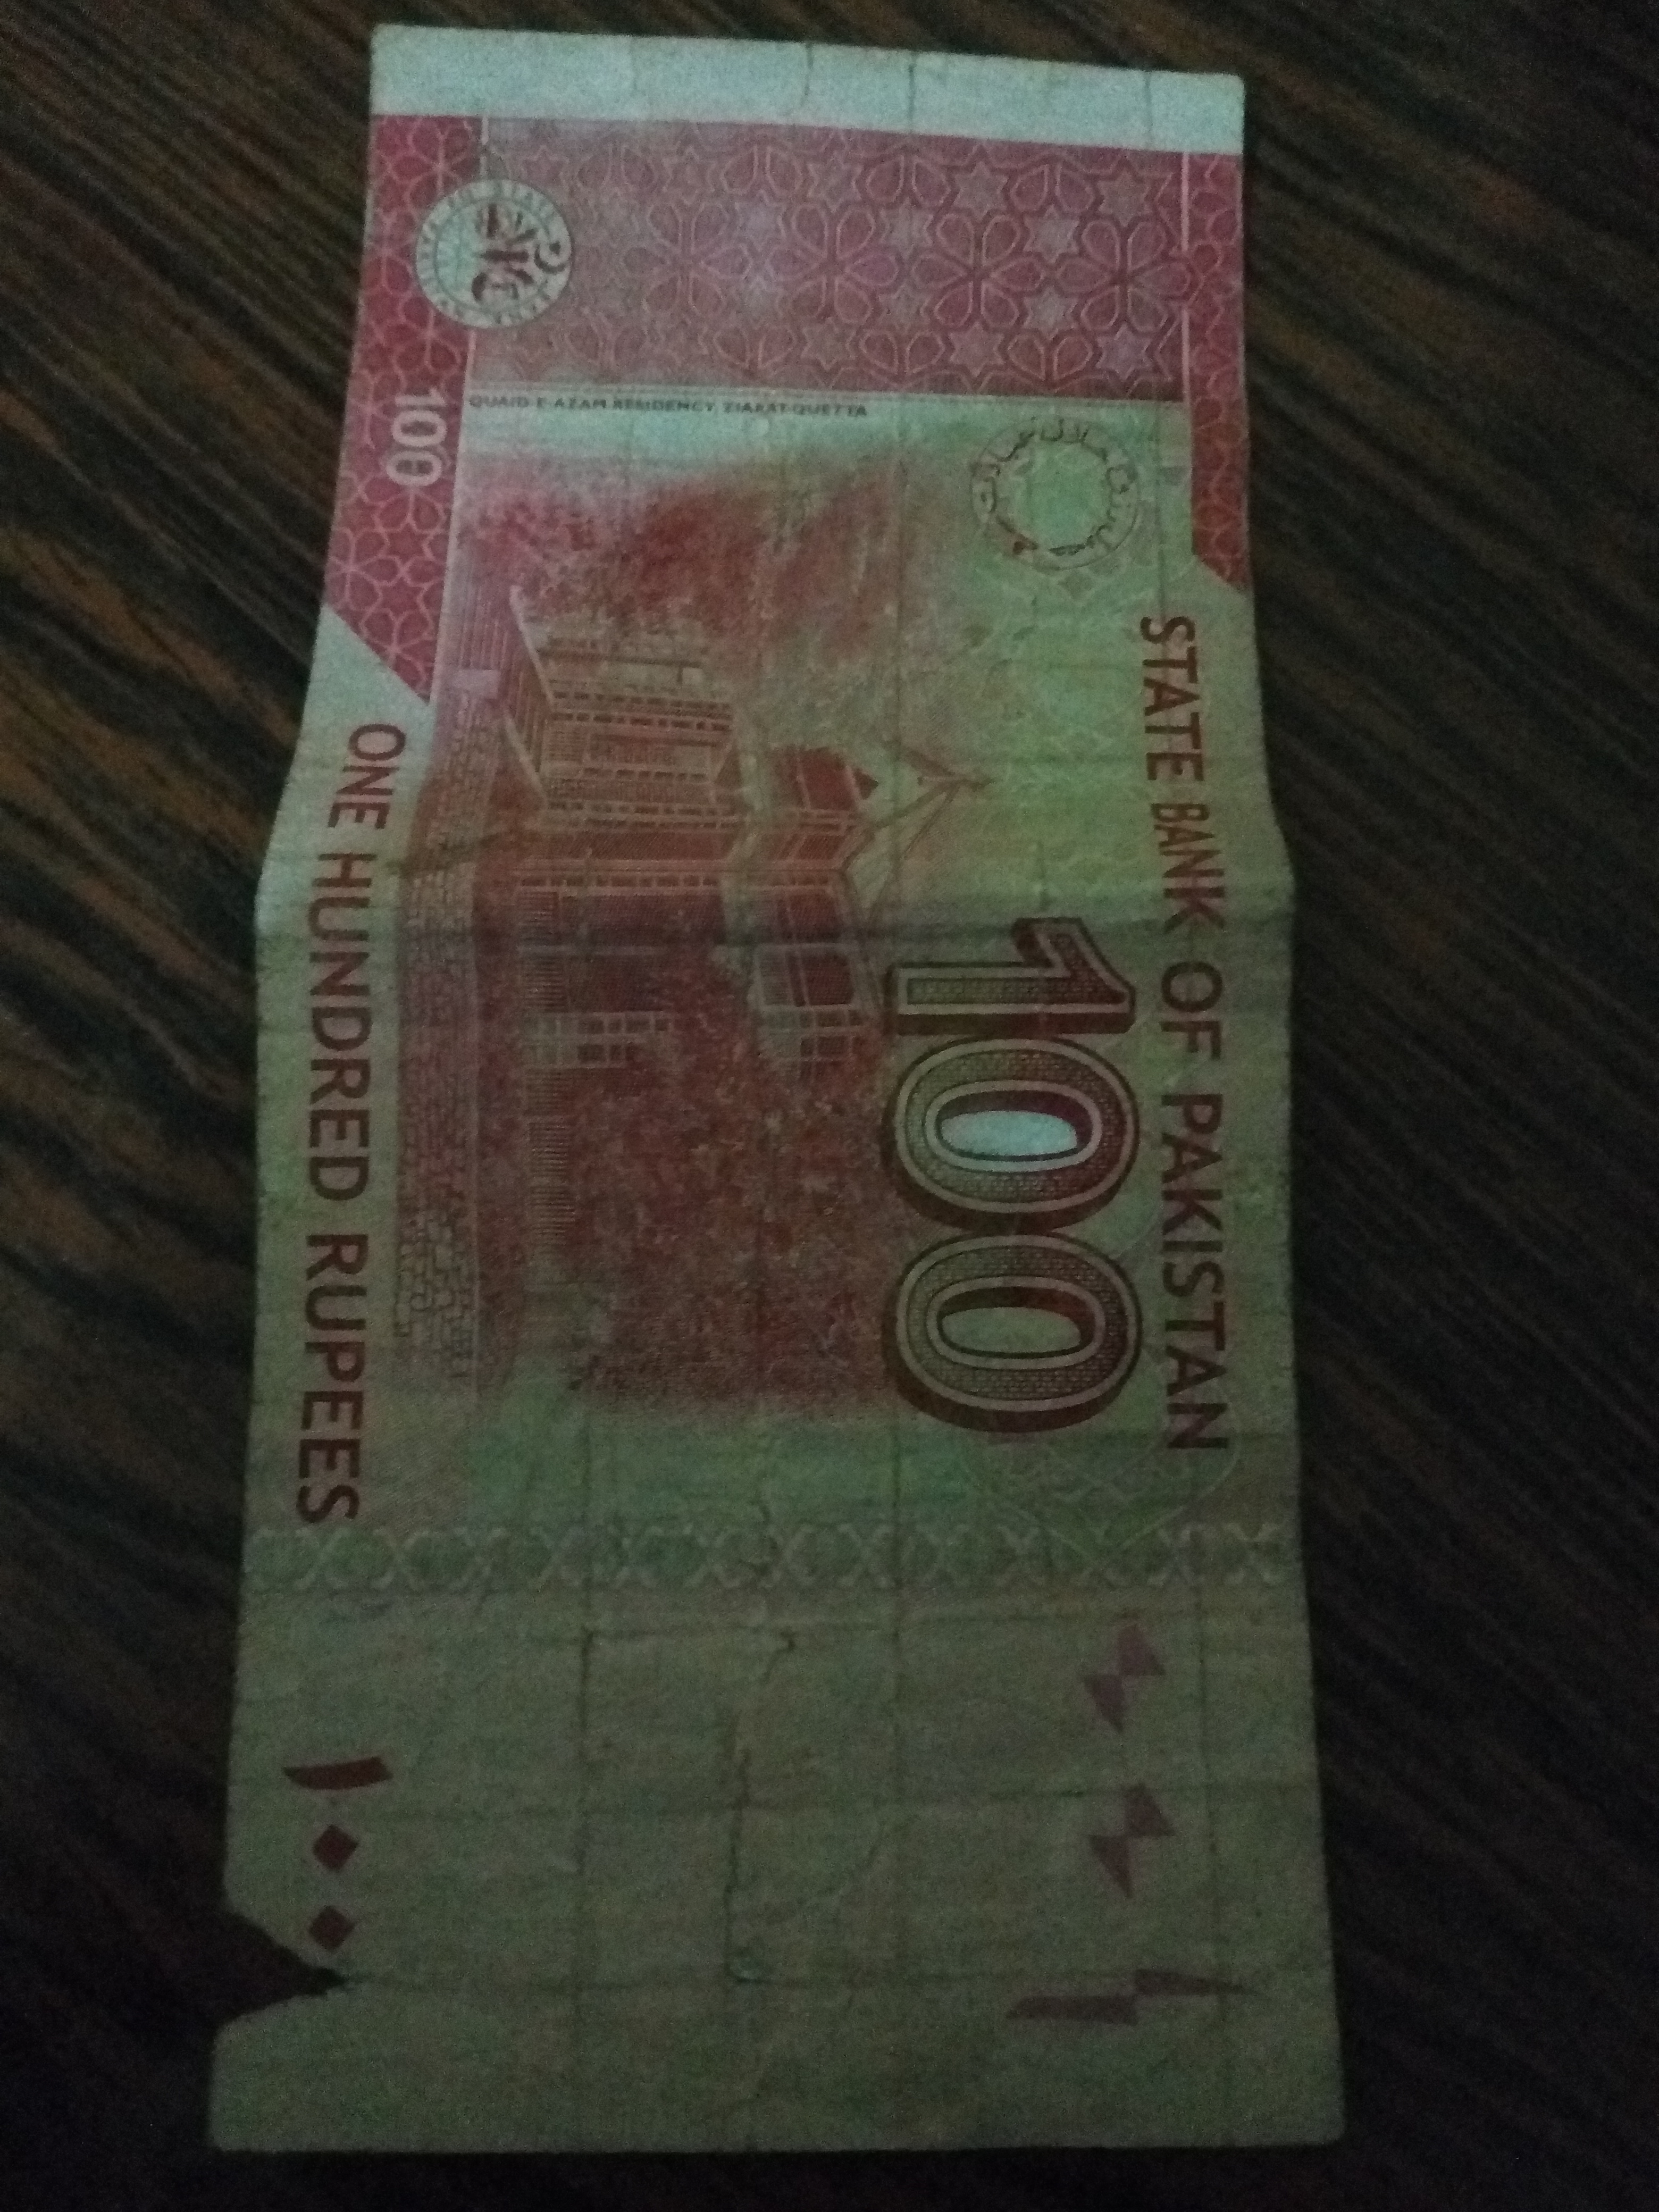100 rupee: (193, 28, 1328, 2179)
